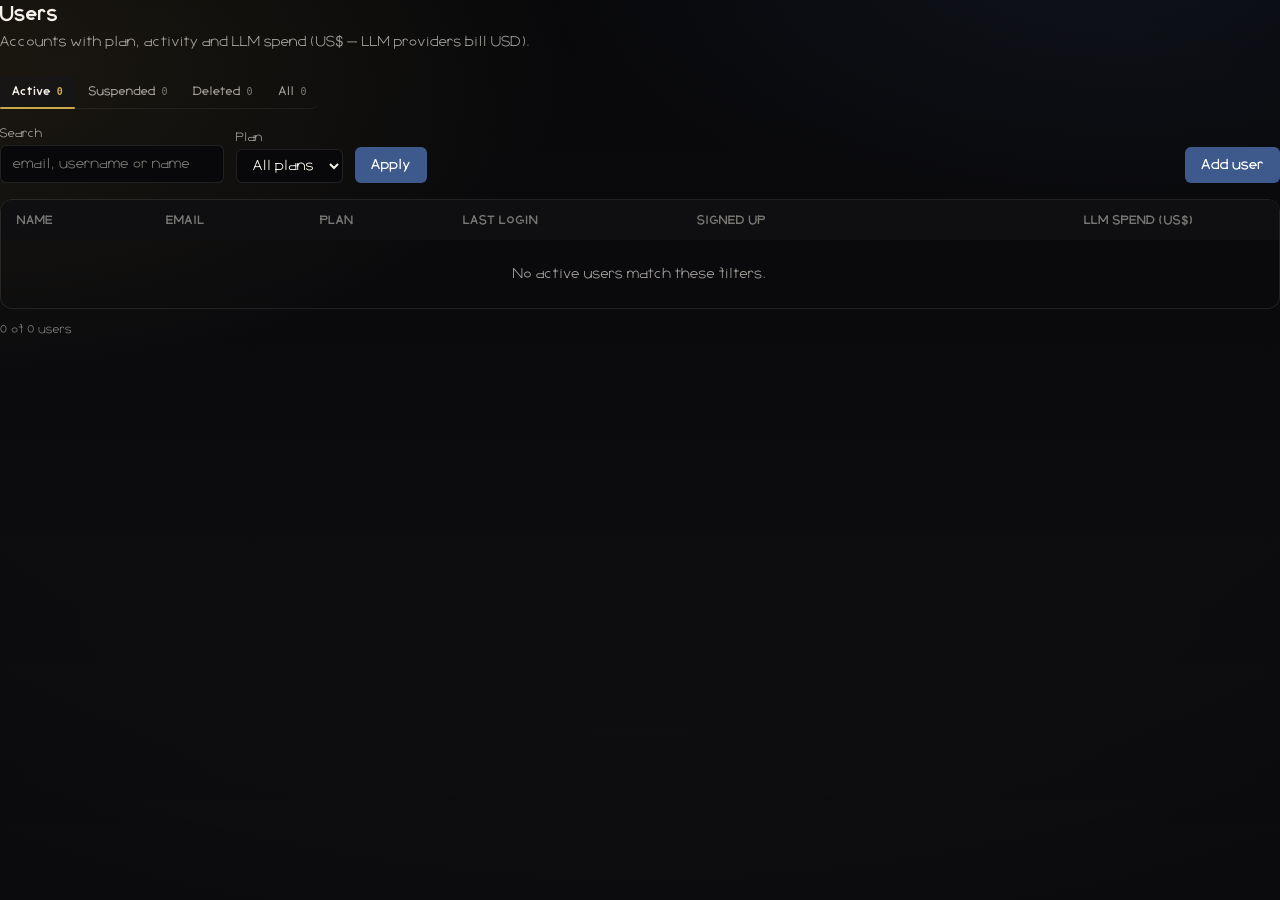
Test case: the one-time temporary password › shows the generated password with an explicit shown-once warning
The image size is (1280, 900).
Click the button with test id "admin-add-user" at (1233, 165), box top-left (1185, 147), bottom-right (1279, 183)
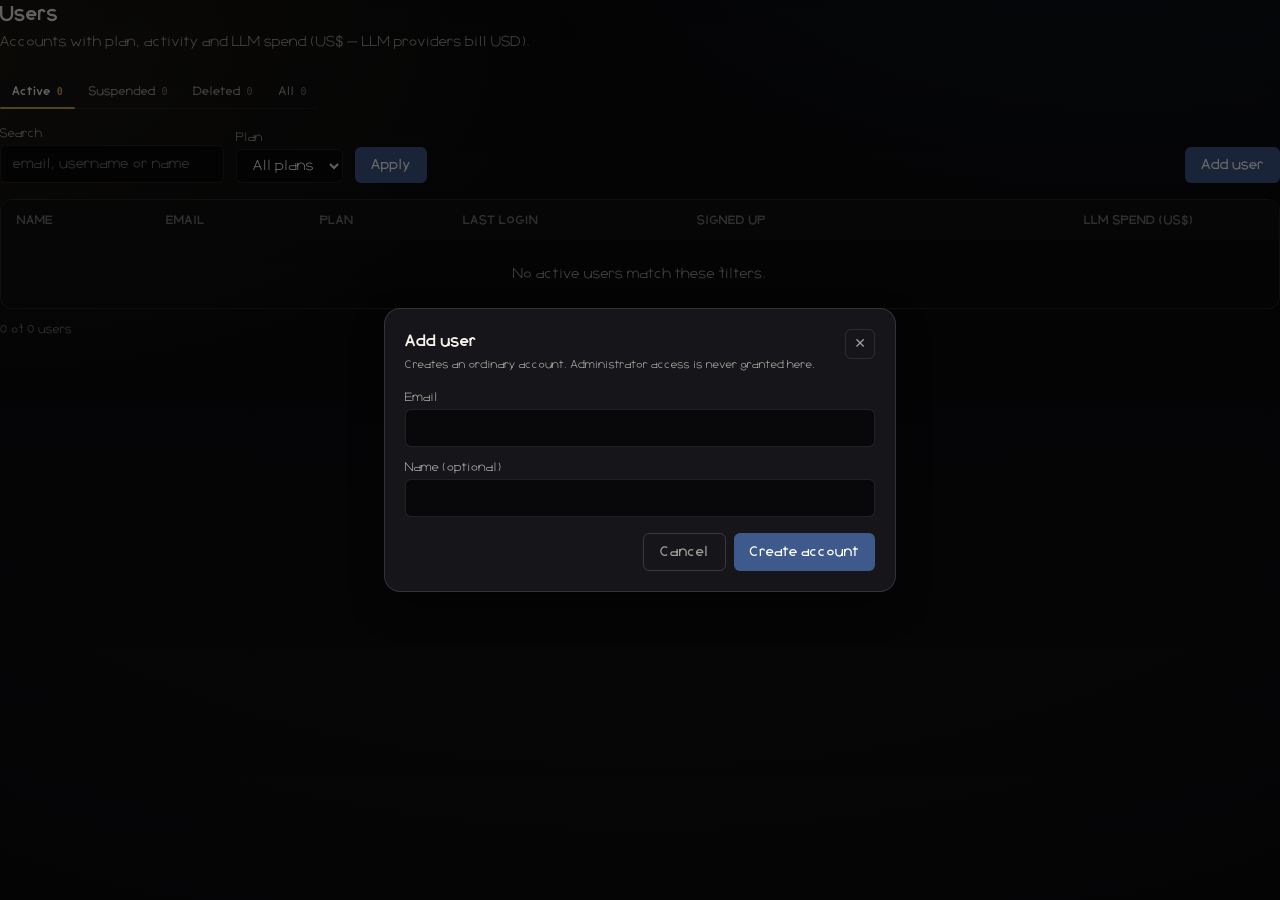
Check: the dialog with test id "admin-add-user-dialog" is shown, box top-left (384, 308), bottom-right (896, 592)
Type "newbie@example.com" into the field named "New user email" at (640, 428), box top-left (405, 409), bottom-right (875, 447)
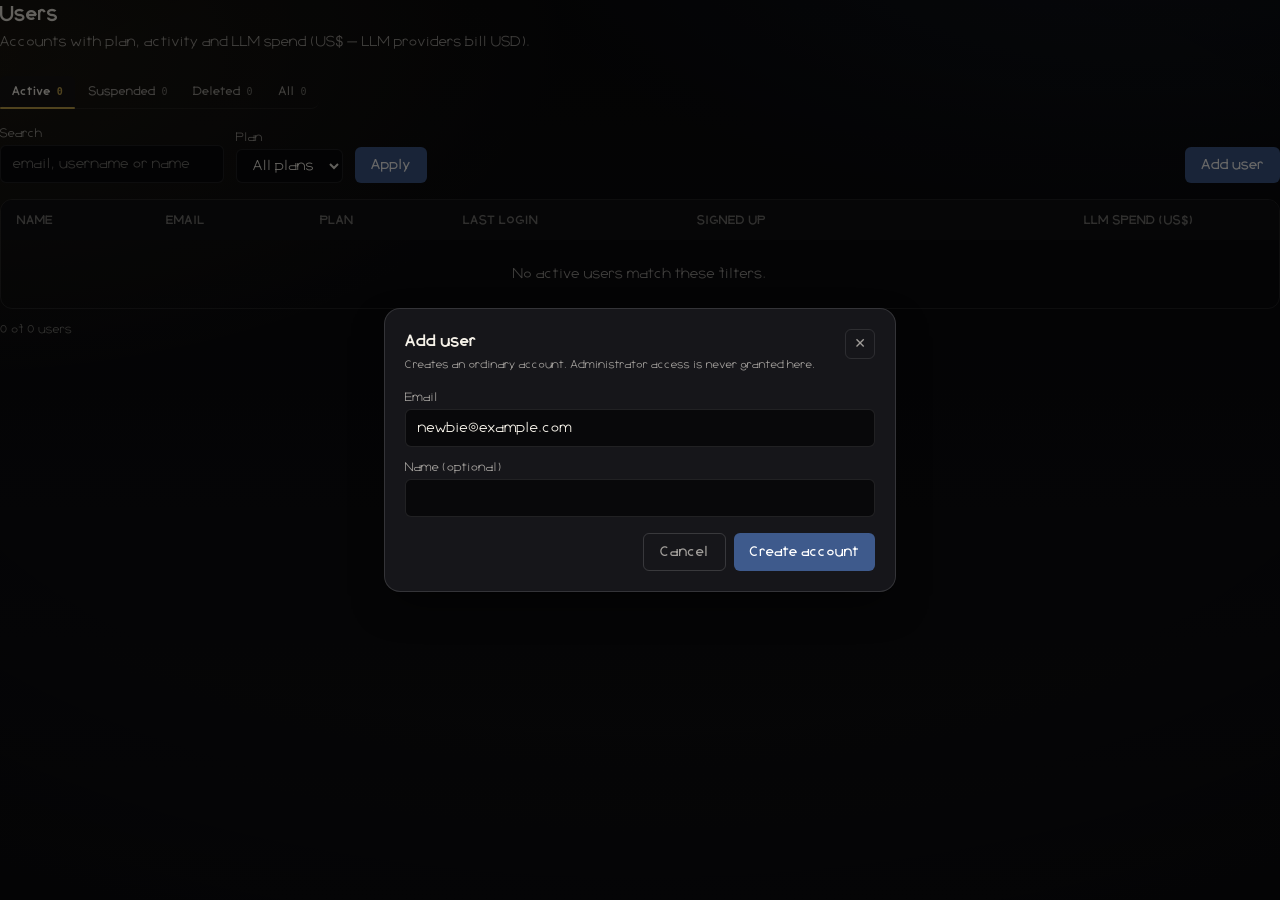
Type "New Bie" into the field named "New user name (optional)" at (640, 498), box top-left (405, 479), bottom-right (875, 517)
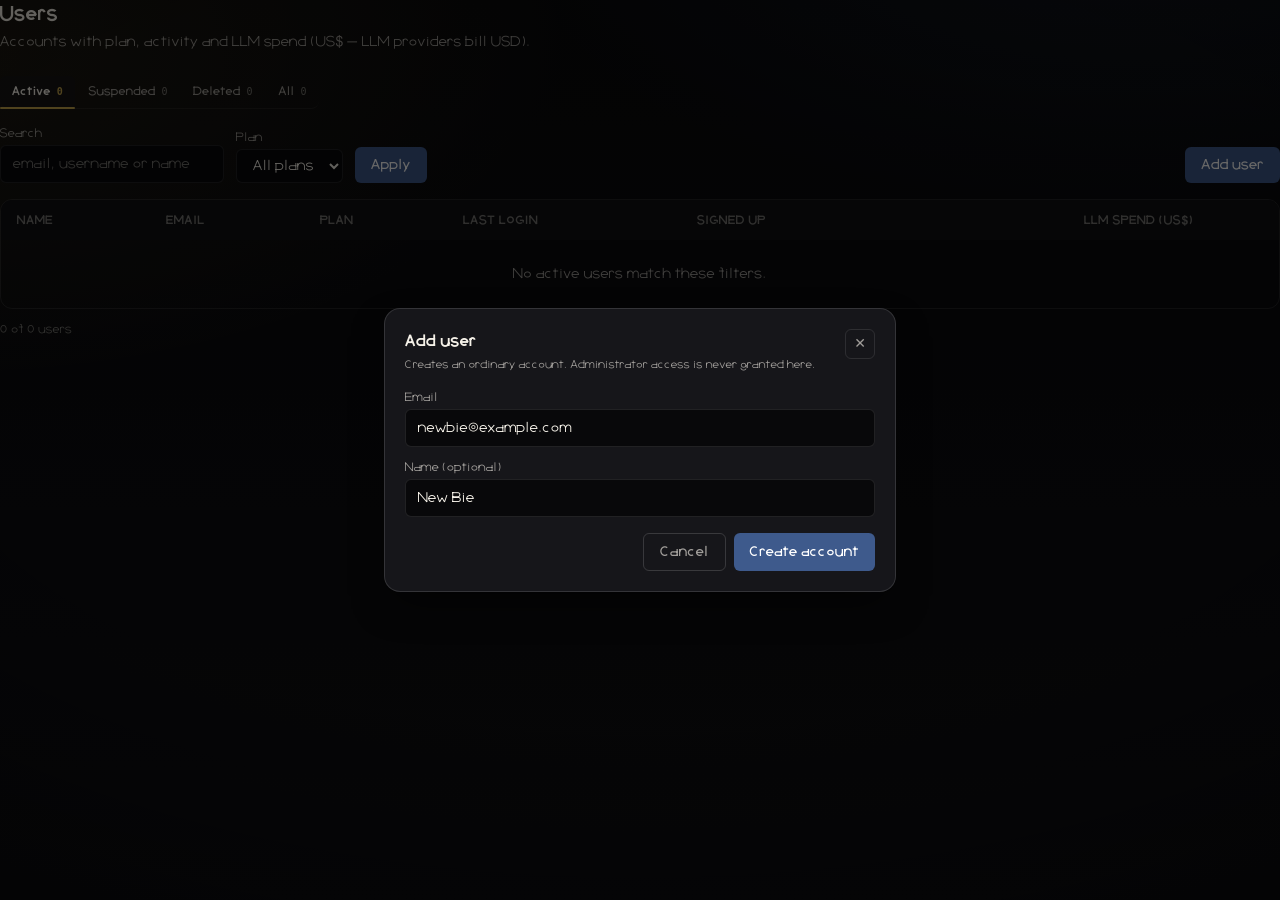
Click the button with test id "admin-add-user-submit" at (804, 552), box top-left (734, 533), bottom-right (875, 571)
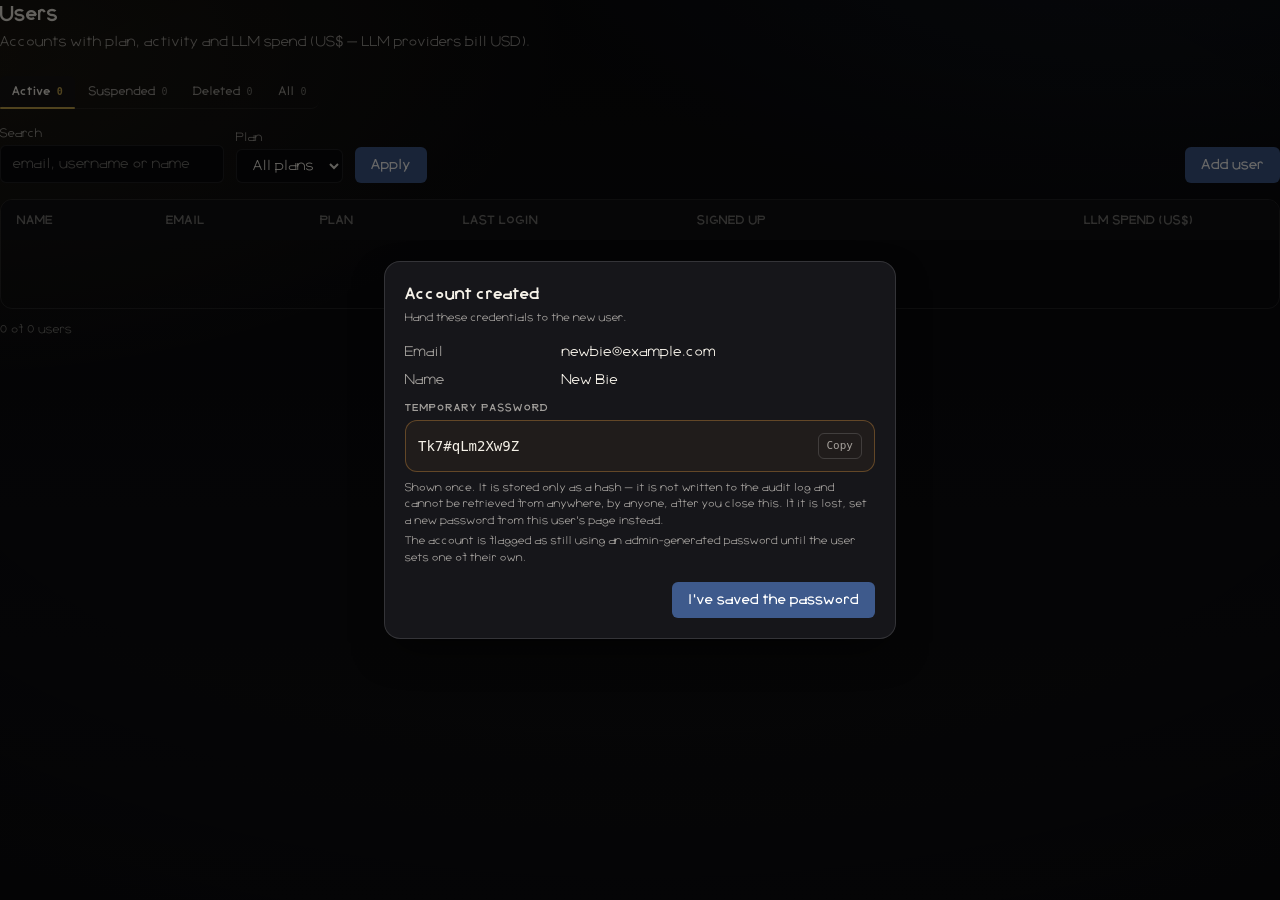
Check: the text with test id "admin-temp-password" reads "Tk7#qLm2Xw9Z", box top-left (418, 438), bottom-right (519, 454)
Check: the text with test id "admin-temp-password-warning" shows "once", box top-left (405, 482), bottom-right (867, 526)
